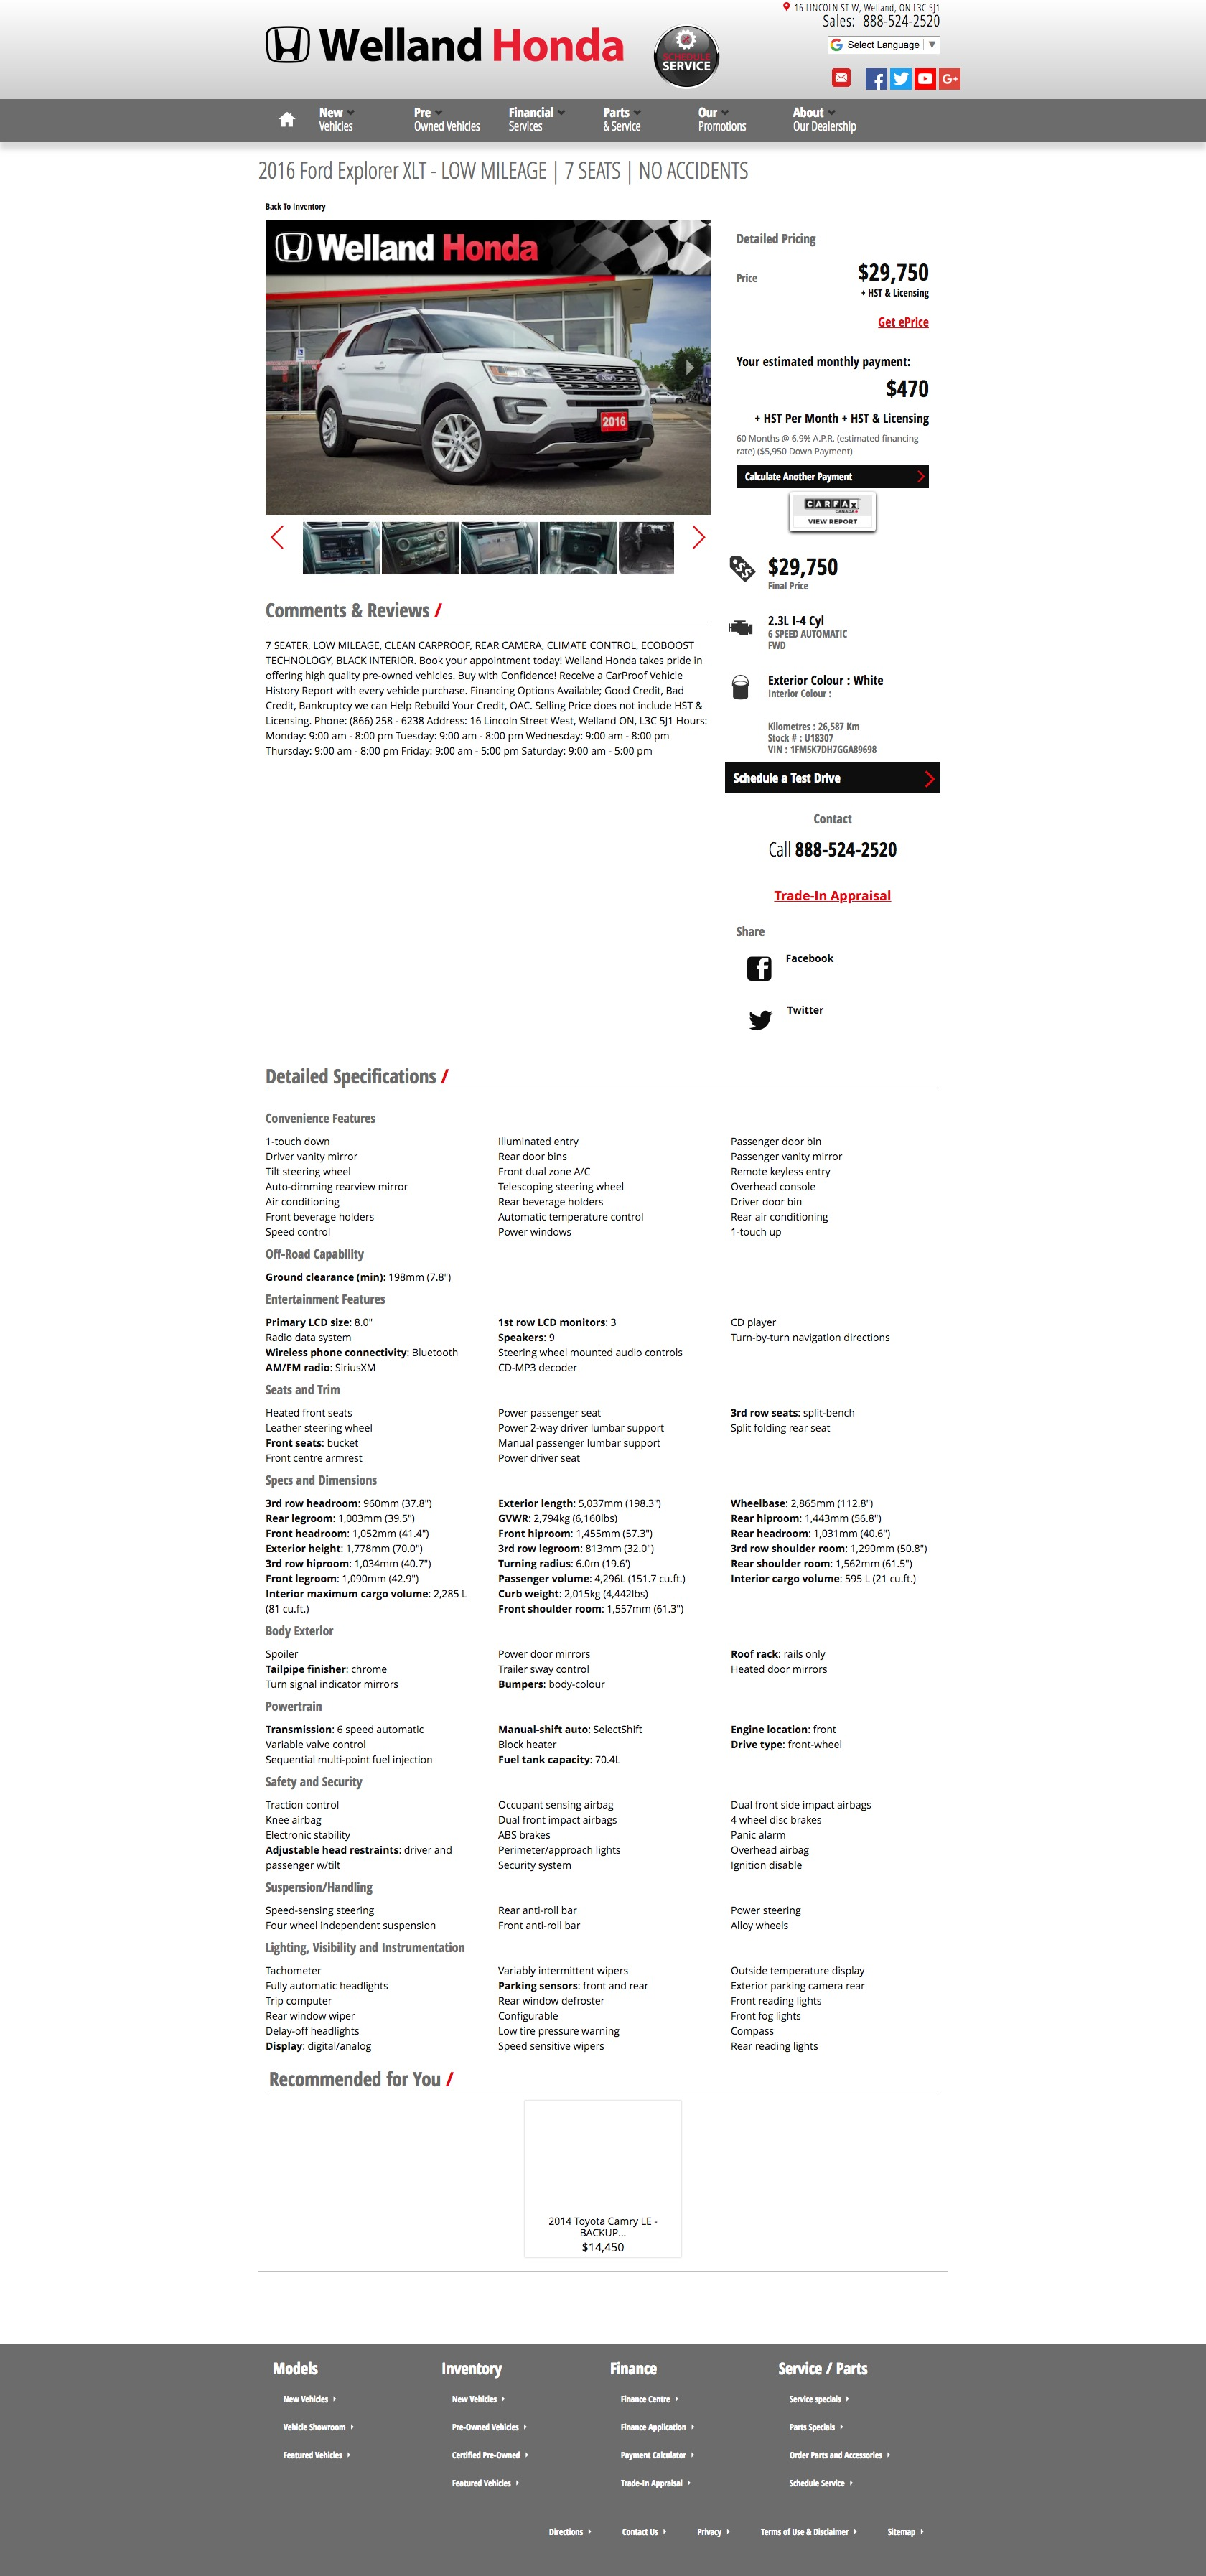car: (693, 526, 707, 550)
